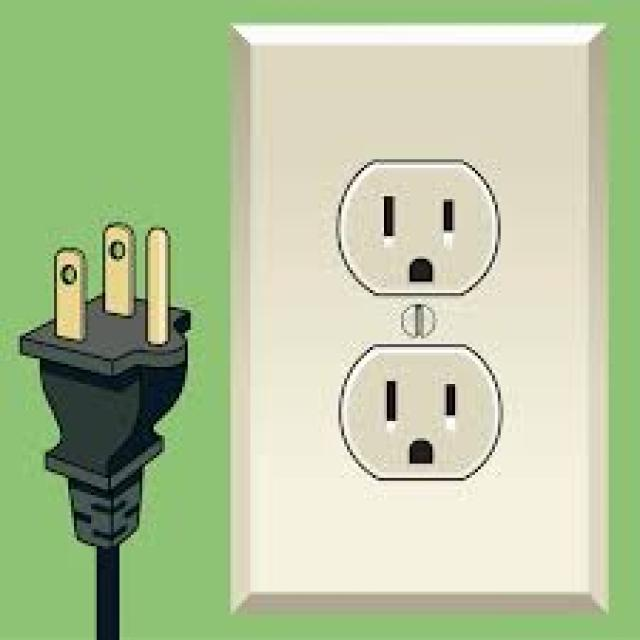type_b: (331, 165, 512, 481), (330, 161, 503, 296), (336, 346, 508, 480)
